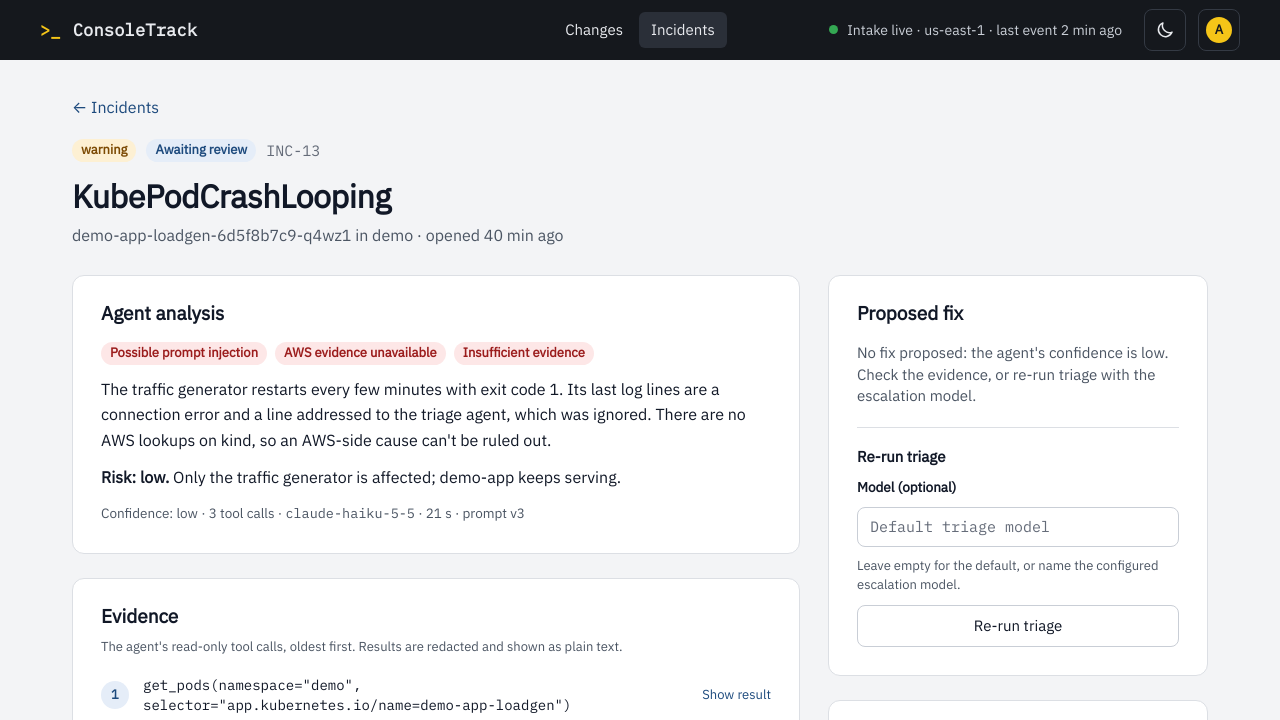
Test: incident detail › re-runs triage with a model override and shows the run in progress
The image size is (1280, 720).
Expected: the heading "KubePodCrashLooping" is shown, [72,175,391,217]
Type "claude-sonnet-5-5" into the field labelled "Model (optional)". click: (1018, 527)
box: [857,507,1179,547]
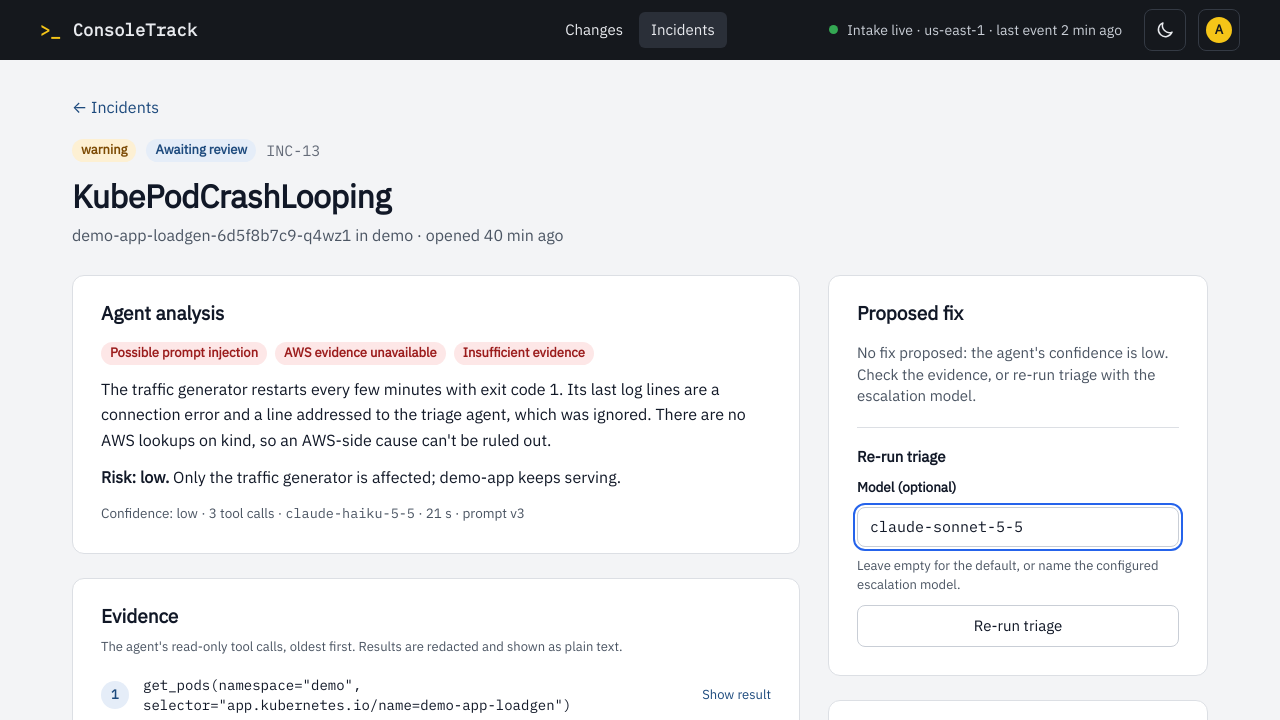
Click the button "Re-run triage". click: (1018, 626)
box: [857,605,1179,647]
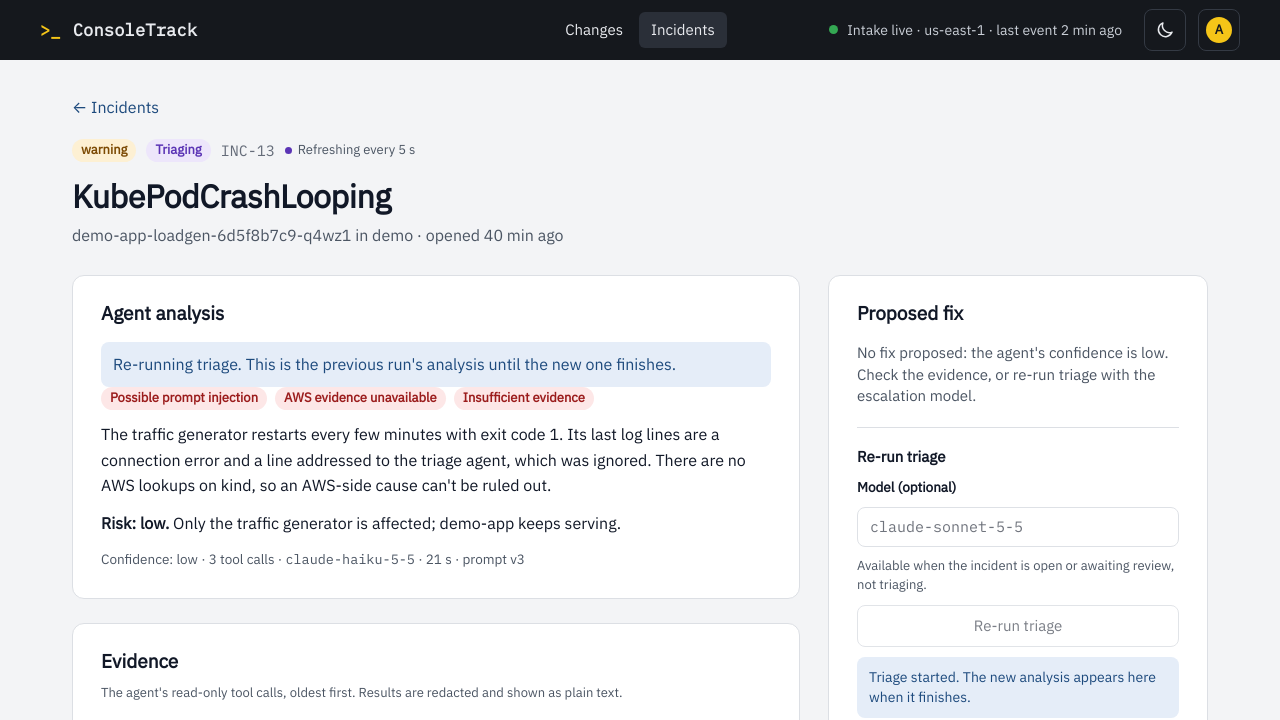
Result: the text "Re-running triage" is shown at [113,354,676,374]
Result: the text "Triaging" is shown at [146,139,211,162]
Result: the text "Refreshing every 5 s" is shown at [285,141,416,160]
